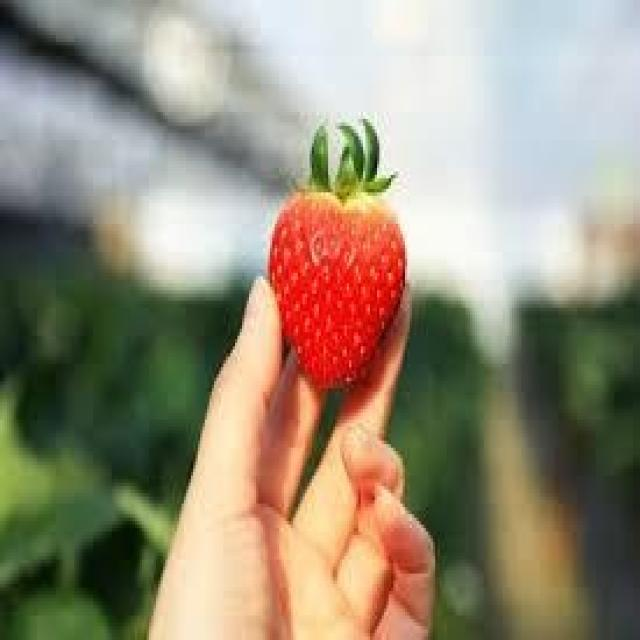mature: (266, 189, 406, 388)
